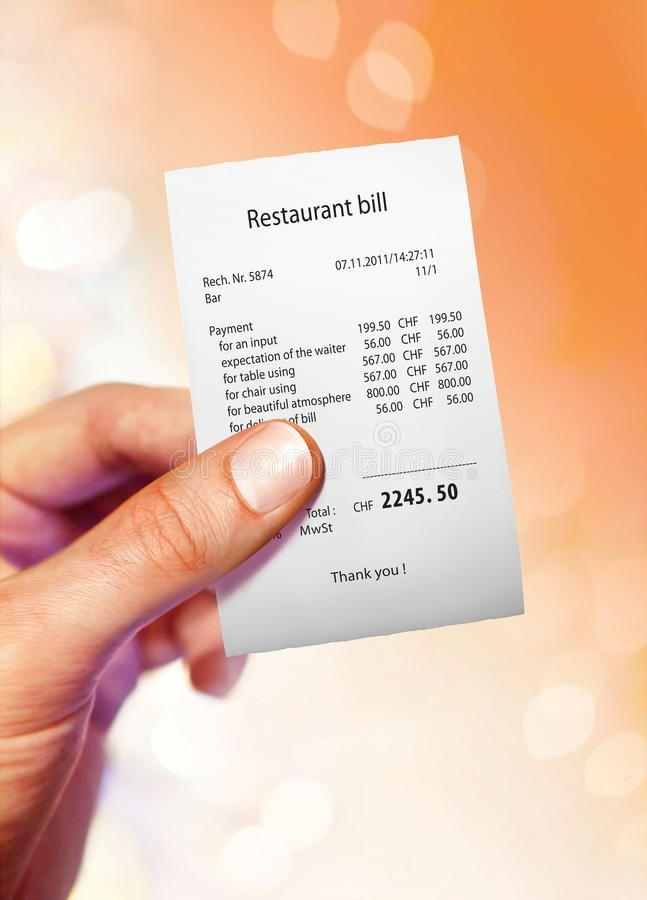receipt-in-hand: (166, 138, 522, 654)
